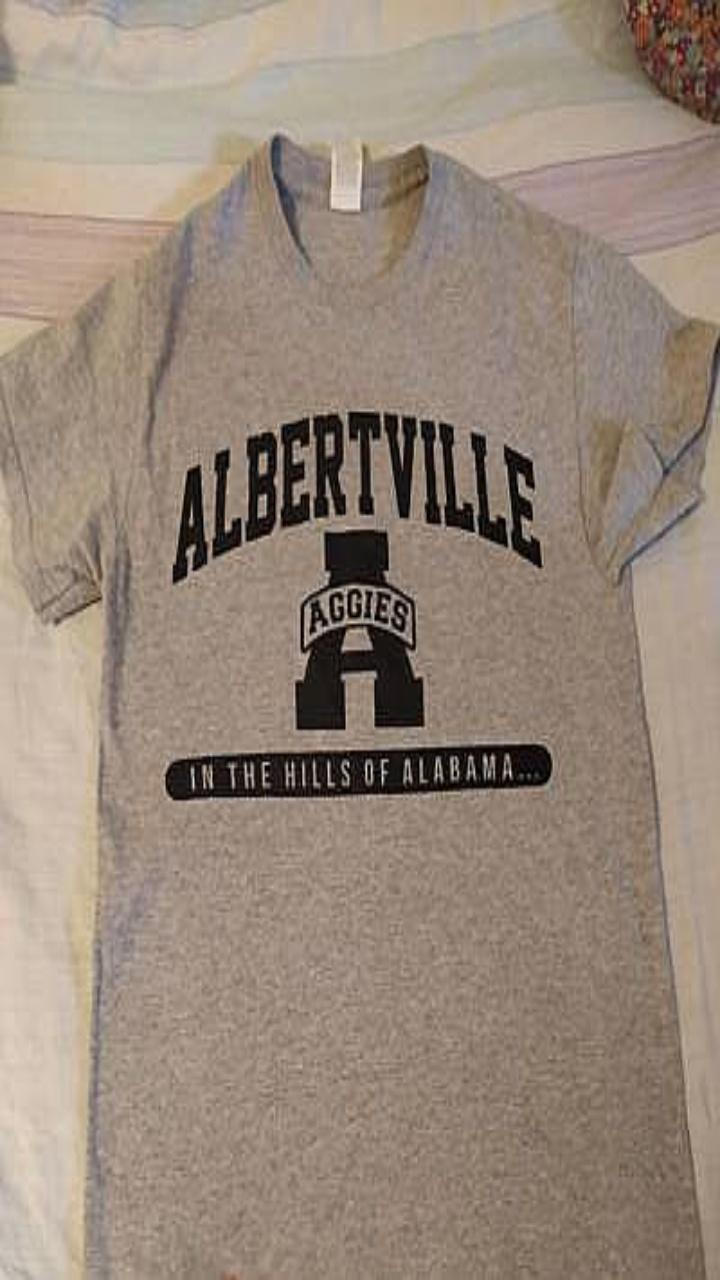T-Shirt: (0, 132, 719, 1279)
